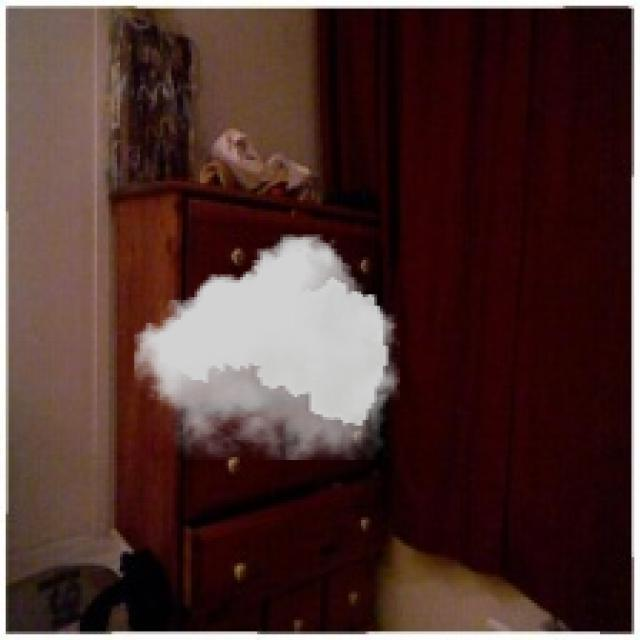Smoke: (134, 235, 400, 460)
